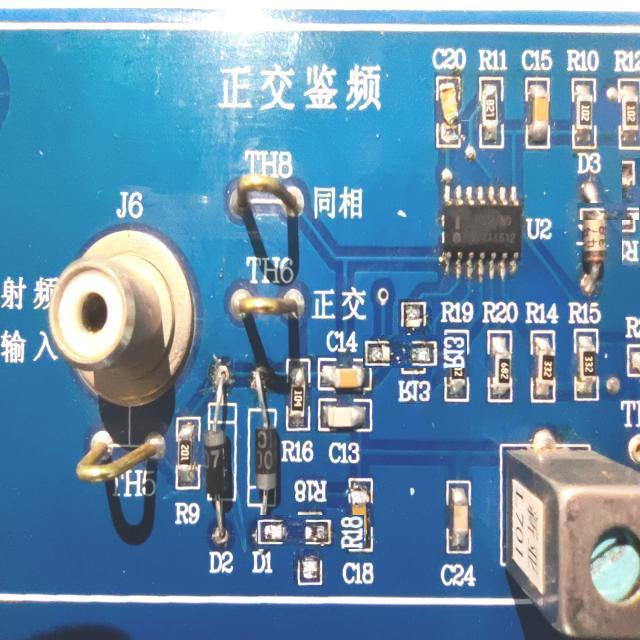miss_welding: (274, 497, 346, 568), (381, 317, 449, 386), (599, 180, 640, 242)
